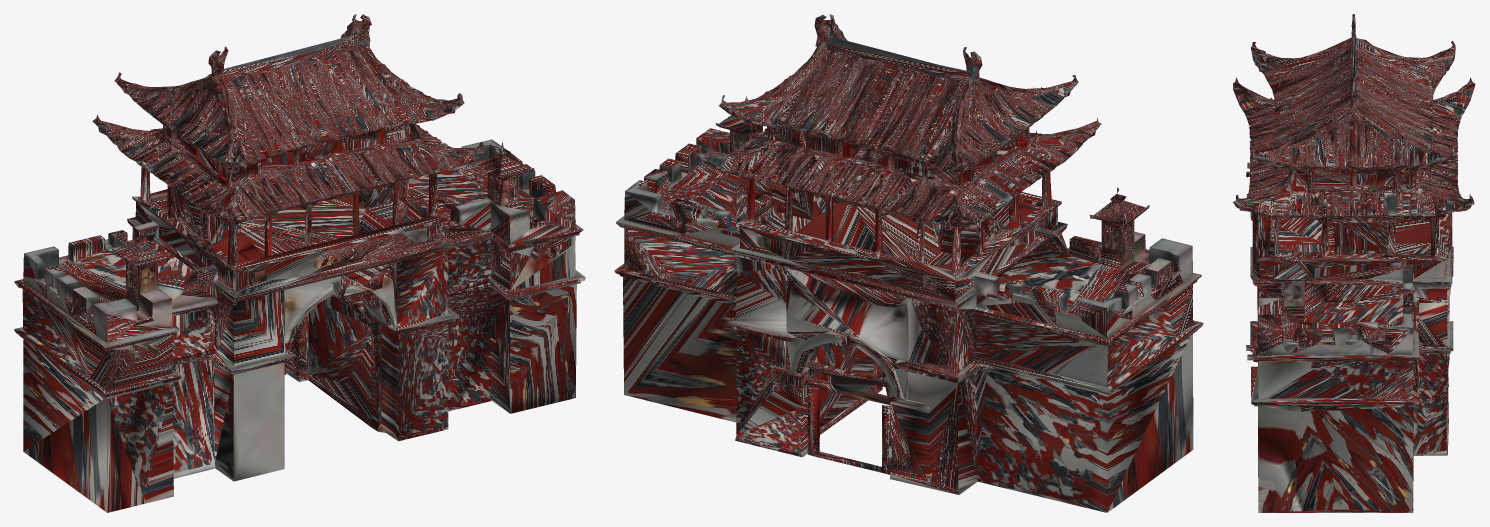
The model's file is city_gate.lod.glb.
3 renders of one model, left to right at view 1: azimuth 30°, elevation 25°; view 2: azimuth 150°, elevation 25°; view 3: azimuth 270°, elevation 25°, orthographic. The views are drawn at different scales.
Size of the model in its own units: 1.89 by 1.46 by 0.8883.
1 material, 1 textured.
